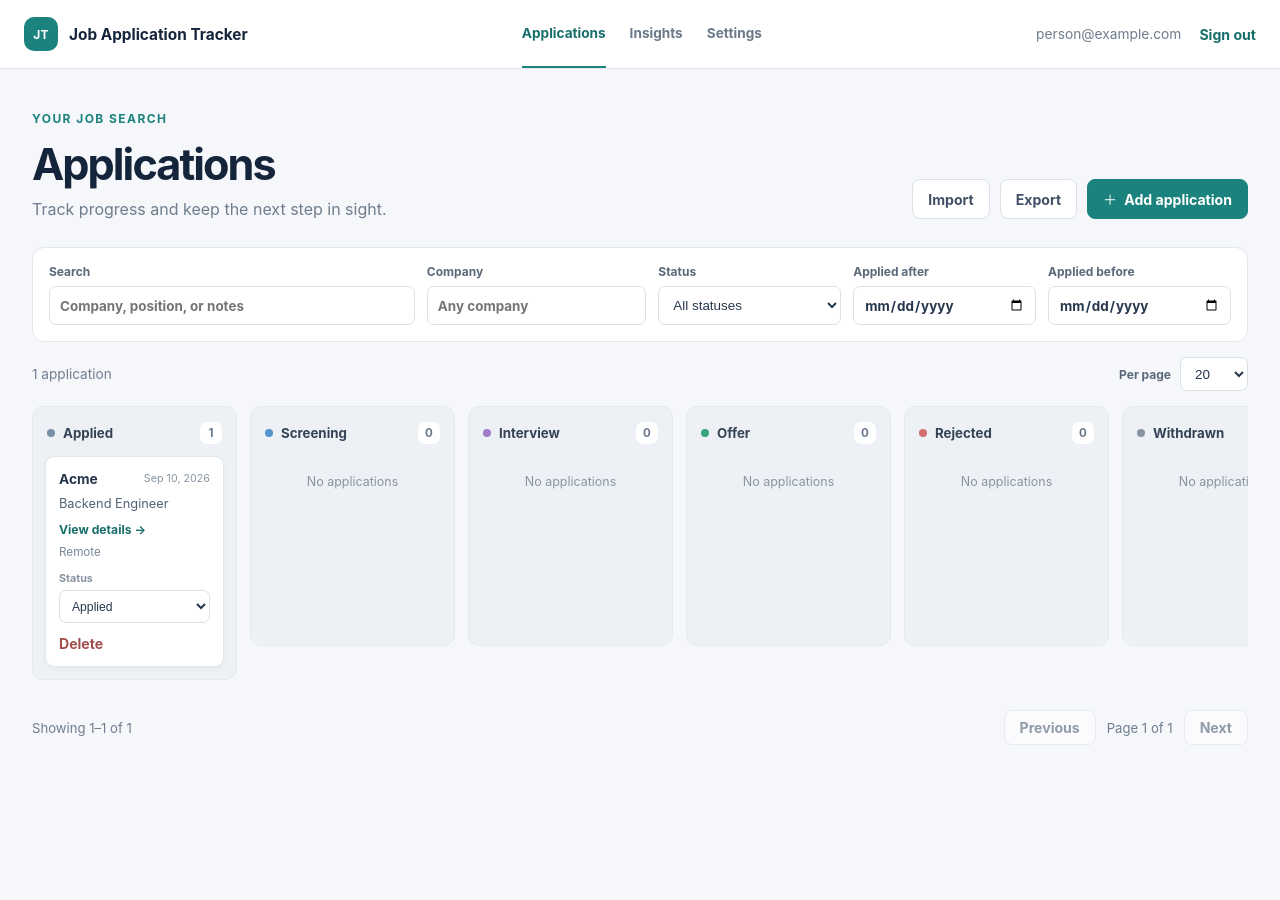
Test: ApplicationsBoard › confirms deleting a card, removes it without reloading, and announces success
Check: the heading "Acme" is shown, box x1=59 y1=470 x2=98 y2=489
What coordinates should you click on to do the following:
click the button "Delete"
I would click on:
 (81, 644)
Its box is x1=59 y1=635 x2=103 y2=652.
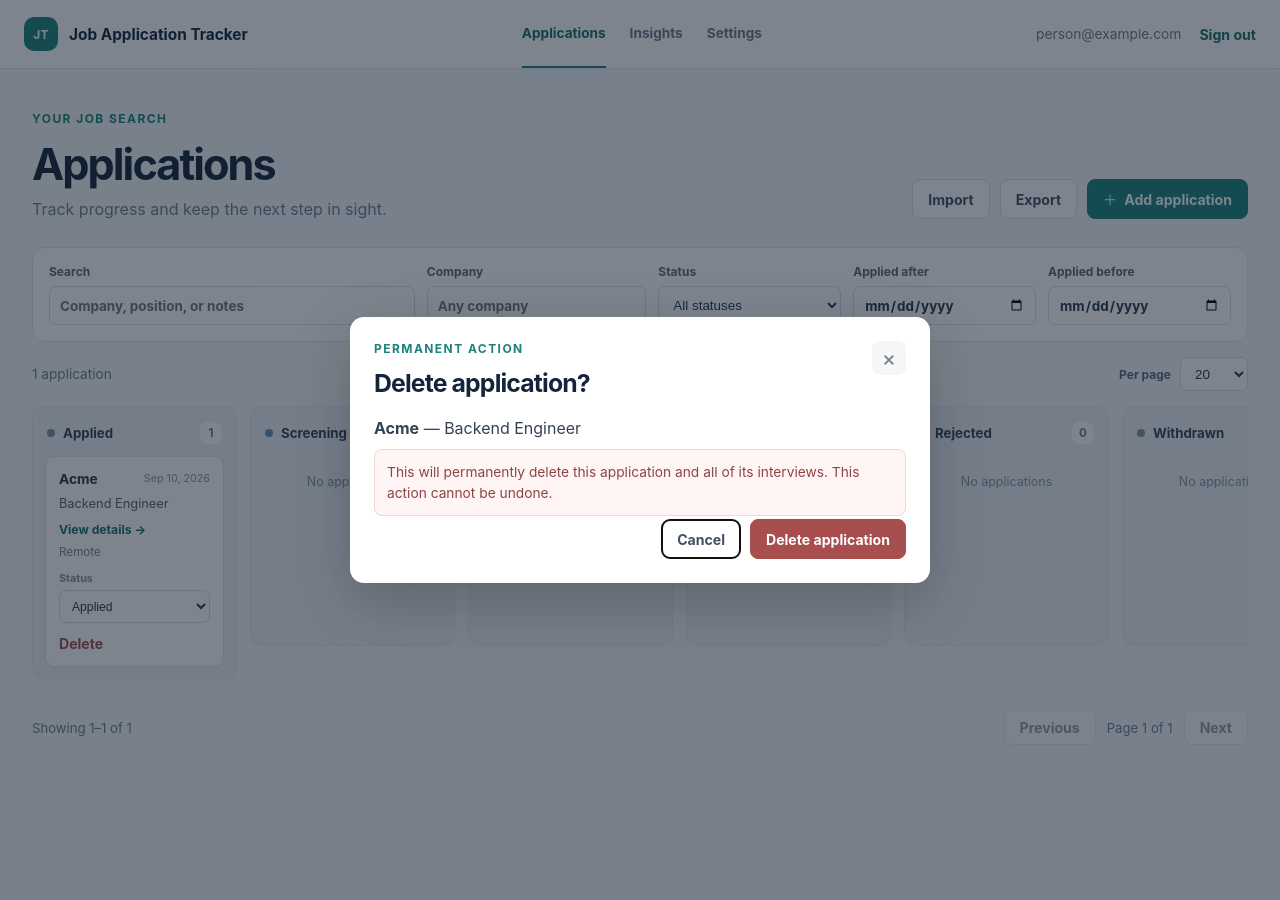
Check: the text "all of its interviews" is shown, box x1=387 y1=464 x2=859 y2=500
What coordinates should you click on to do the following:
click the button "Delete application"
I would click on:
 (828, 539)
Its box is x1=750 y1=519 x2=906 y2=559.
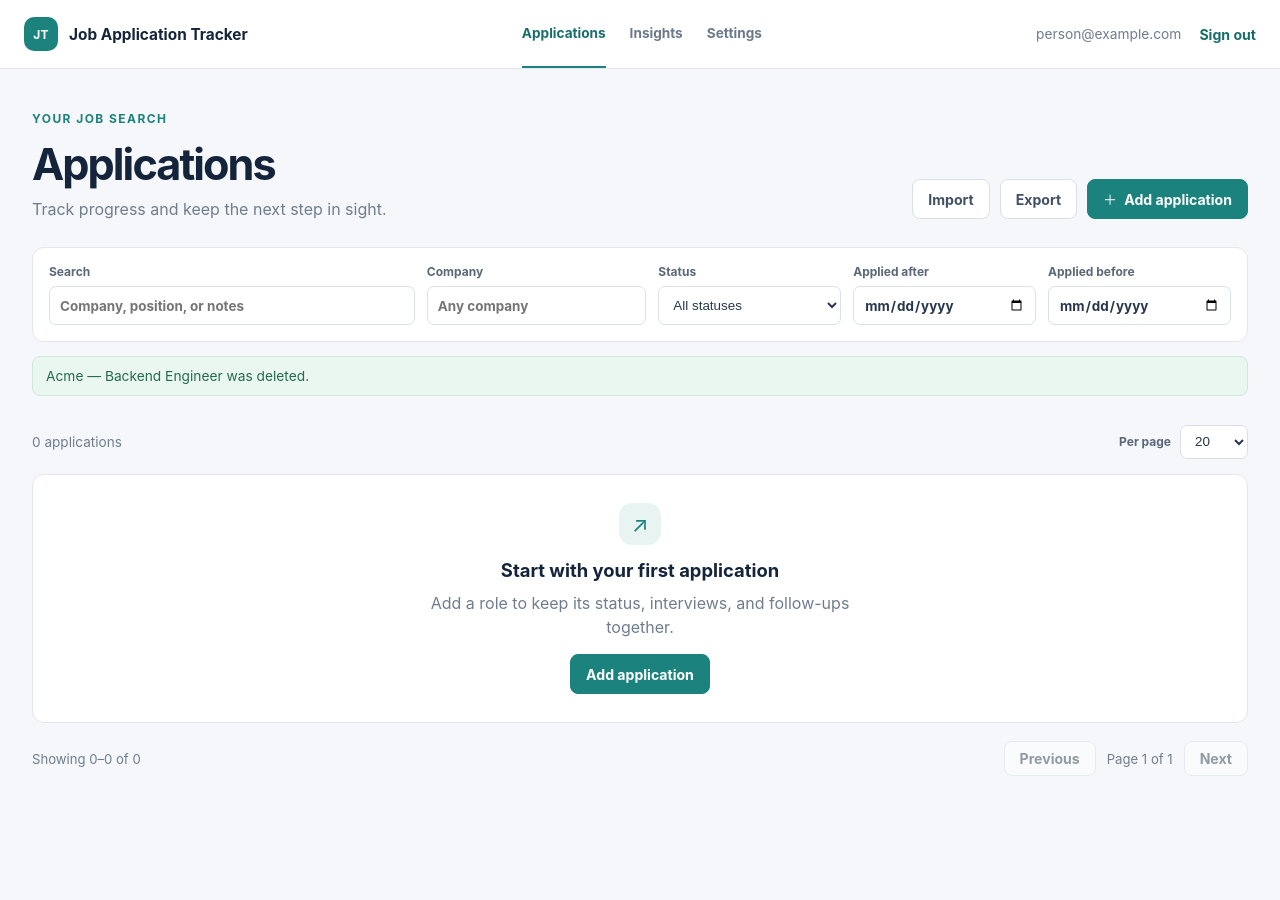
Check: the dialog is gone
Check: the message reads "Acme — Backend Engineer was deleted.", box x1=46 y1=368 x2=309 y2=384
